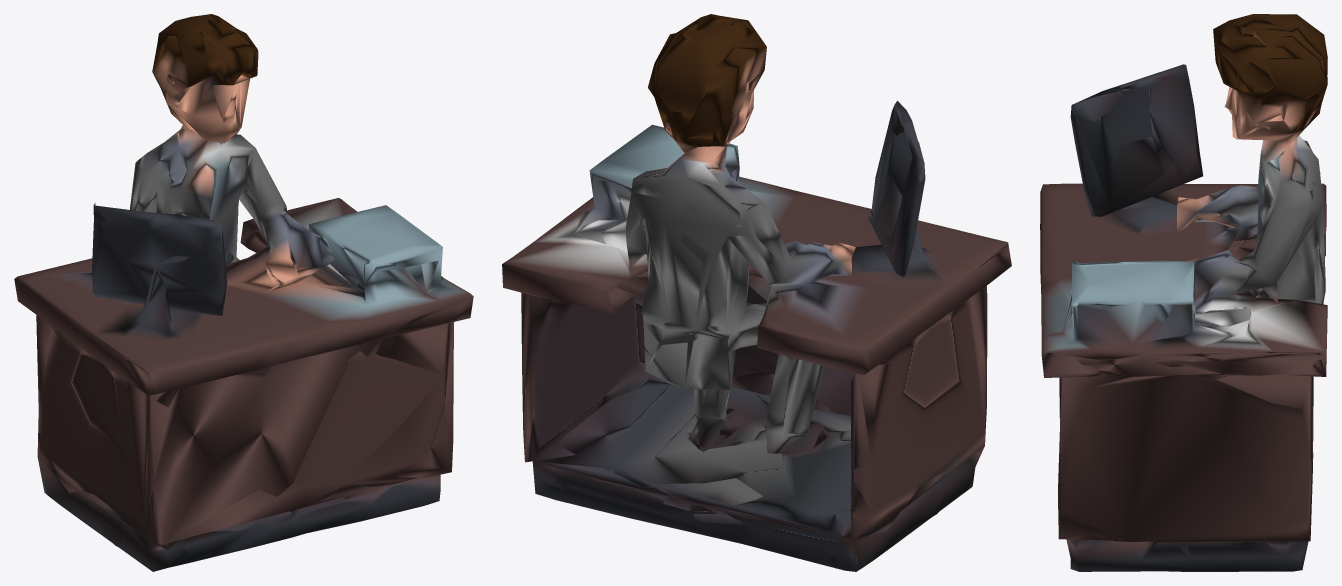
File: gen3d-cashier-lod0.glb
3 views of the same model, side by side, from view 1: azimuth 30°, elevation 25°; view 2: azimuth 150°, elevation 25°; view 3: azimuth 270°, elevation 25° (orthographic). The views are drawn at different scales.
Visible parts, largest first — view 1: part_0; view 2: part_0; view 3: part_0.
Part boxes in pixels (<box>): part_0: <box>14,14,473,571</box>; part_0: <box>502,14,1011,571</box>; part_0: <box>1040,14,1327,571</box>.
Size of the model in its own units: 0.7645 by 1 by 0.5444.
